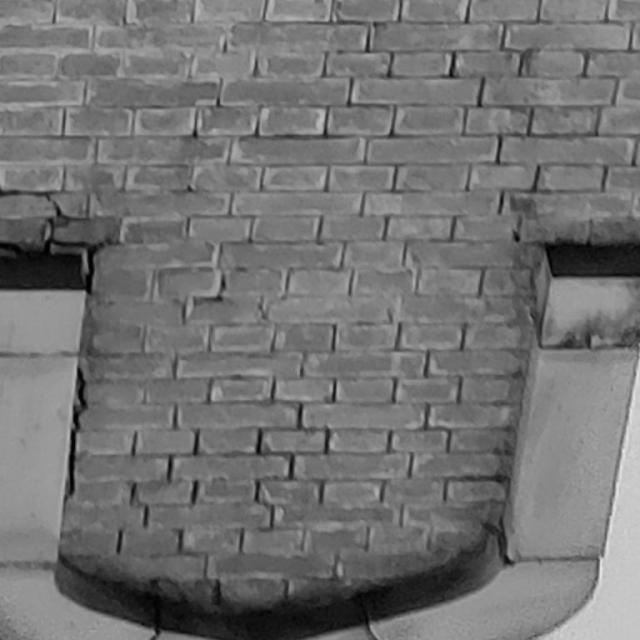crack: (0, 189, 111, 294), (68, 364, 88, 495)
